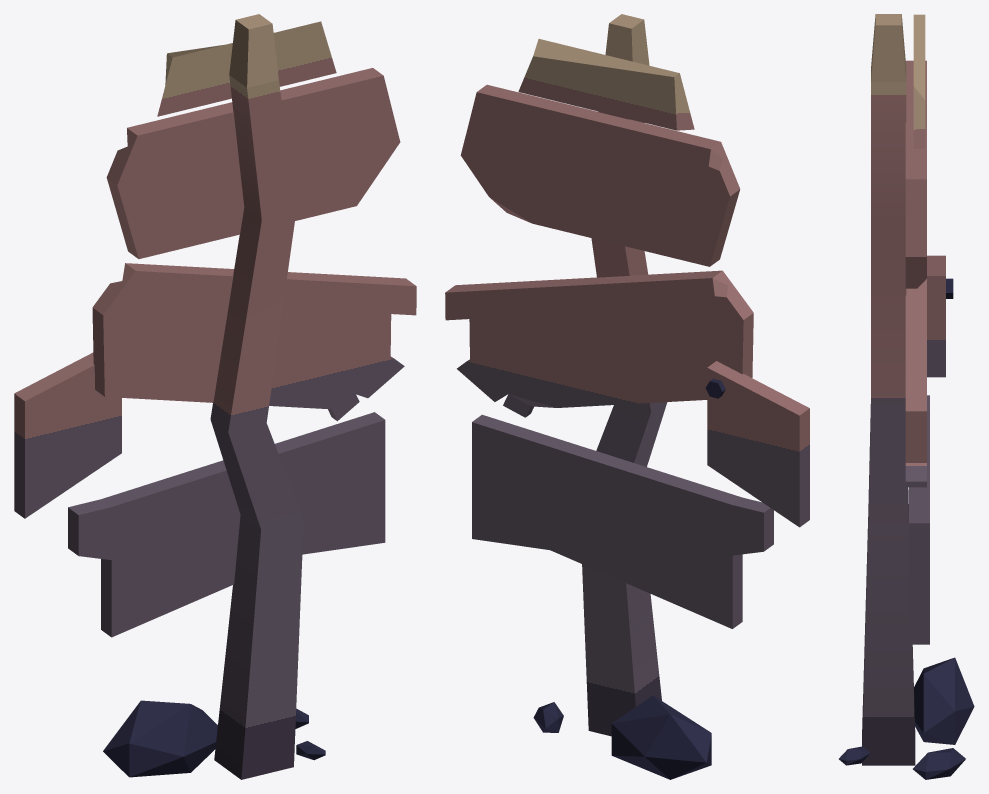
File: panneau_v02.fbx
3 views of the same model, side by side, from view 1: azimuth 30°, elevation 25°; view 2: azimuth 150°, elevation 25°; view 3: azimuth 270°, elevation 25° (orthographic). The views are drawn at different scales.
Parts seen in each view (by area): view 1: panneau_02; view 2: panneau_02; view 3: panneau_02.
Boxes of the visible parts, x1=… form: panneau_02: x1=14, y1=14, x2=416, y2=779; panneau_02: x1=445, y1=14, x2=809, y2=779; panneau_02: x1=839, y1=14, x2=974, y2=779.
Size of the model in its own units: 1.57 by 2.96 by 0.4901.
Materials: 2 (2 with a texture image).
